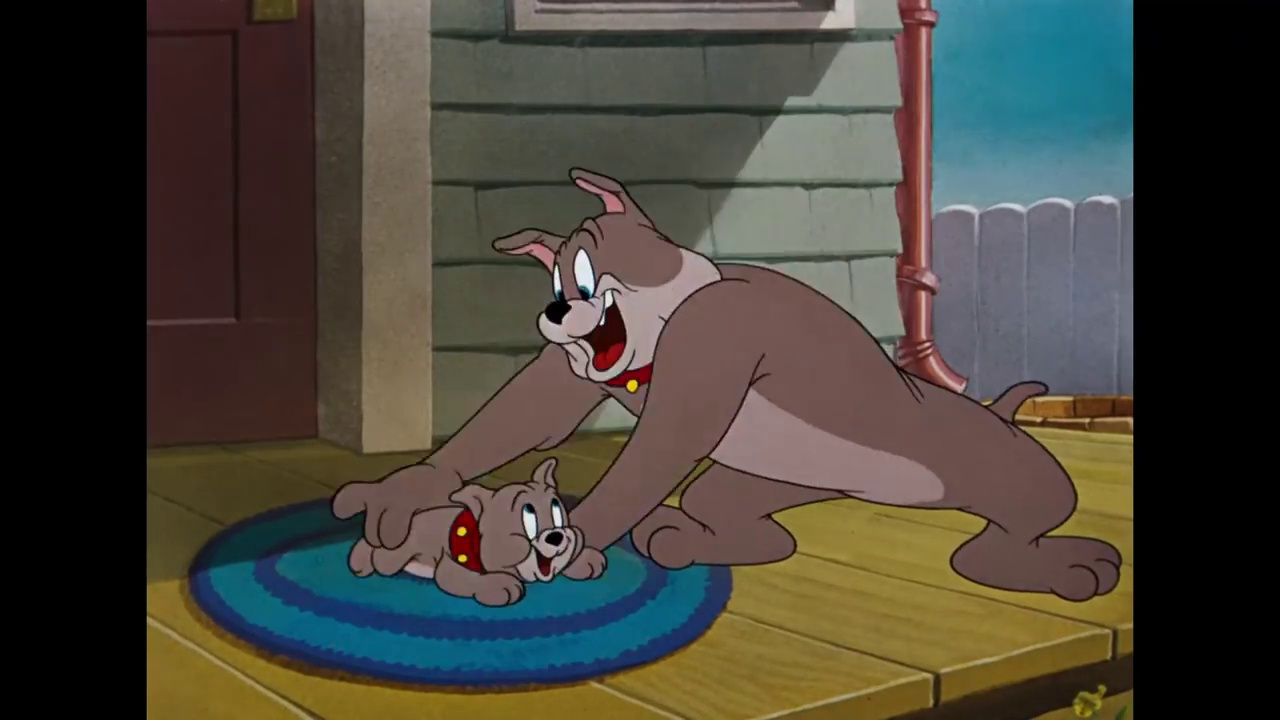spike: (490, 166, 723, 385)
